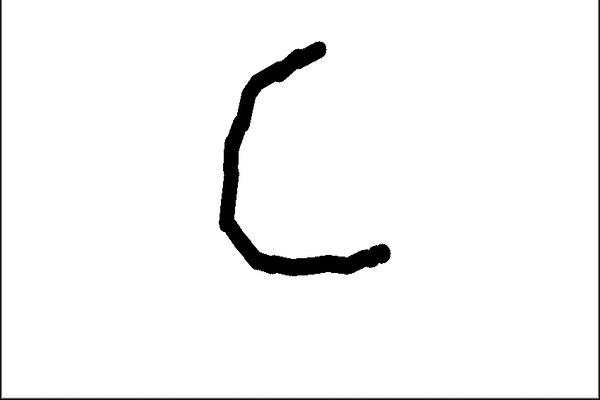C: (213, 35, 394, 276)
